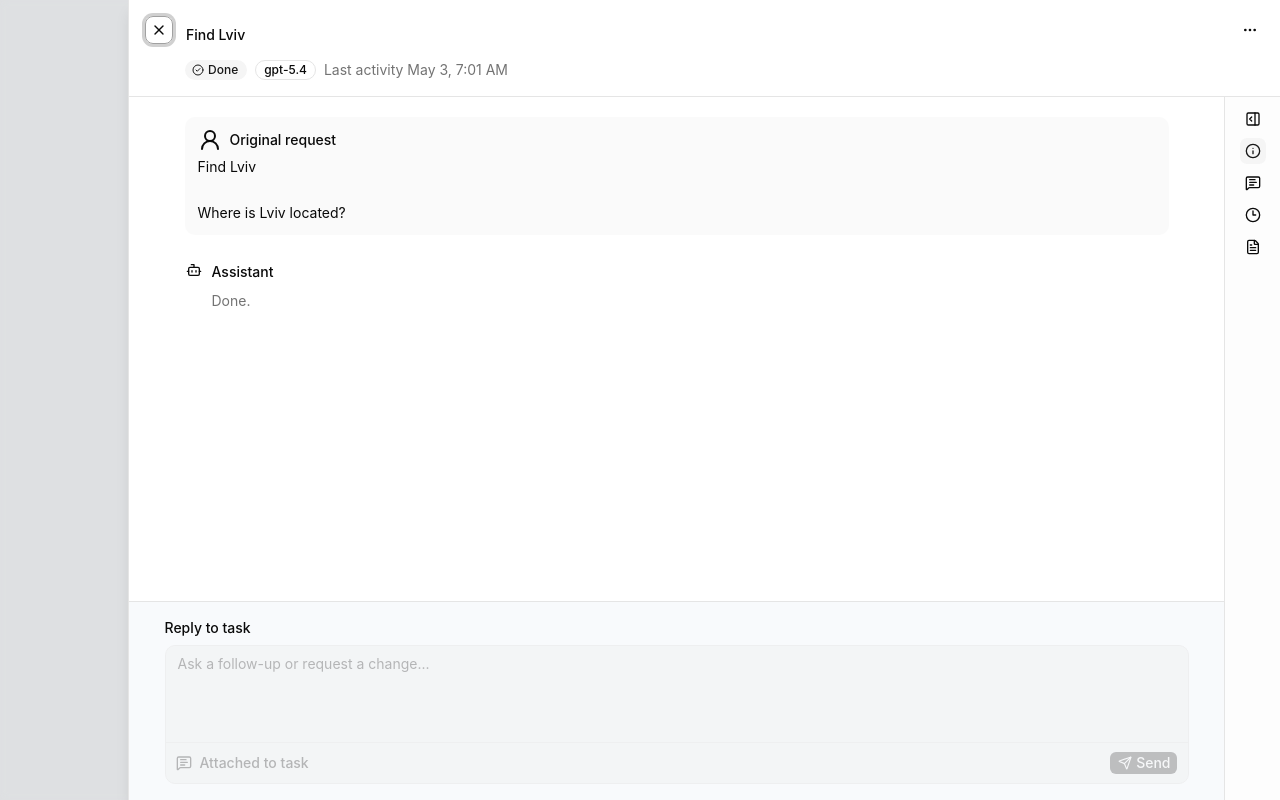
Test: TaskModal › collapses and expands the inspector like a sidebar
The image size is (1280, 800).
Expected: the text "Details locked" is not shown
What coordinates should you click on to do the following:
click the button named "Expand task details"
I would click on:
 (1252, 119)
Its box is x1=1238 y1=105 x2=1266 y2=133.
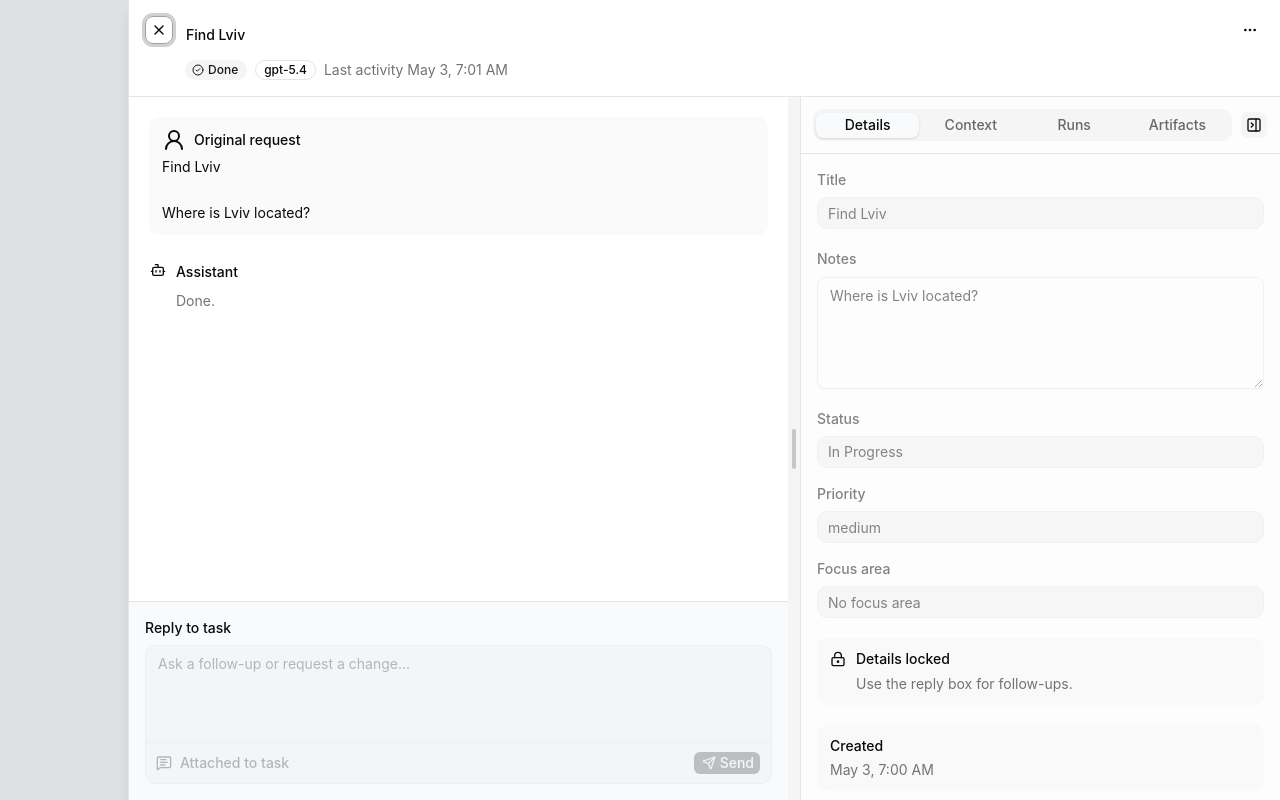
Expected: the text "Details locked" is shown, x1=856 y1=649 x2=950 y2=669
What coordinates should you click on to do the following:
click the button named "Collapse task details"
I would click on:
 (1254, 125)
Its box is x1=1240 y1=111 x2=1268 y2=139.
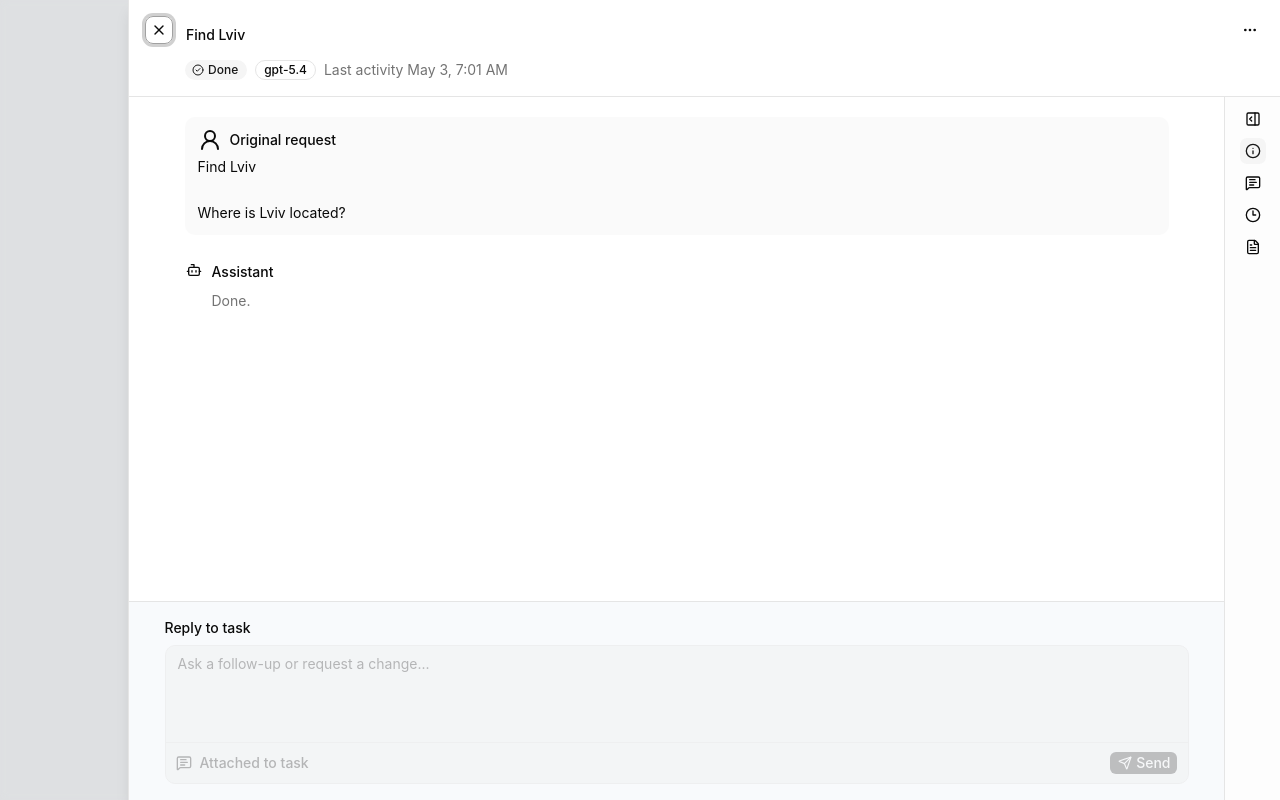
Expected: the text "Details locked" is gone
